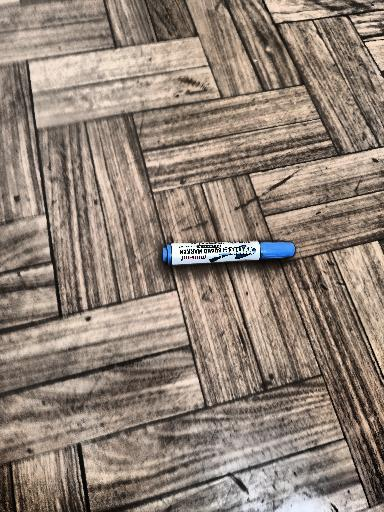marcador azul: (162, 242, 295, 266)
